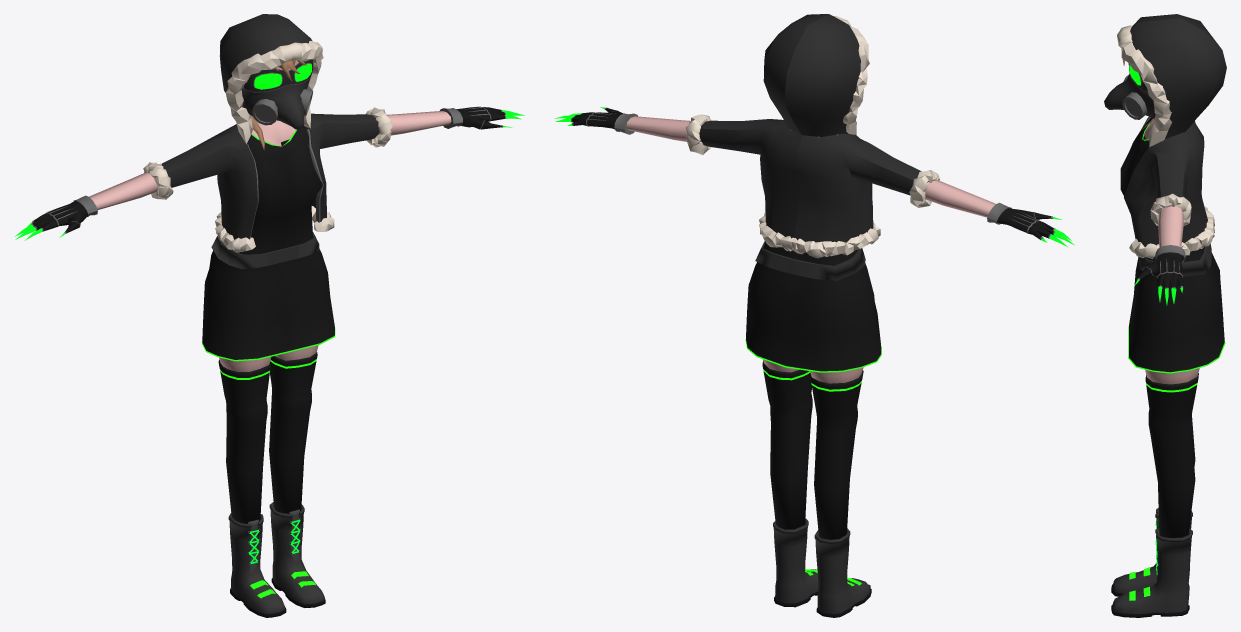
The model's file is Mires-Character2.fbx.
3 views of the same model, side by side, from view 1: azimuth 30°, elevation 25°; view 2: azimuth 150°, elevation 25°; view 3: azimuth 270°, elevation 25° (orthographic). The views are drawn at different scales.
Visible parts, largest first — view 1: Dress.001, Jacket.001, Stockings.001, Boots.001, Body.001, Gloves.001, Mask.002, Belt.001, Gas.001, Lens.001; view 2: Jacket.001, Dress.001, Stockings.001, Boots.001, Body.001, Gloves.001, Belt.001; view 3: Jacket.001, Dress.001, Stockings.001, Boots.001, Body.001, Gloves.001, Mask.002, Belt.001, Gas.001.
Boxes of the visible parts, <box> form: Dress.001: <box>202,126,335,361</box>; Jacket.001: <box>143,14,392,252</box>; Stockings.001: <box>218,352,317,523</box>; Boots.001: <box>228,502,325,617</box>; Body.001: <box>89,111,451,371</box>; Gloves.001: <box>15,106,524,240</box>; Mask.002: <box>242,72,312,129</box>; Belt.001: <box>211,232,319,268</box>; Gas.001: <box>251,89,313,125</box>; Lens.001: <box>253,62,312,89</box>; Jacket.001: <box>685,14,939,258</box>; Dress.001: <box>745,134,881,372</box>; Stockings.001: <box>762,361,863,539</box>; Boots.001: <box>773,518,871,617</box>; Body.001: <box>626,116,995,383</box>; Gloves.001: <box>554,107,1074,247</box>; Belt.001: <box>755,241,865,280</box>; Jacket.001: <box>1117,14,1226,259</box>; Dress.001: <box>1120,117,1225,373</box>; Stockings.001: <box>1145,373,1198,537</box>; Boots.001: <box>1111,508,1192,617</box>; Body.001: <box>1143,119,1199,384</box>; Gloves.001: <box>1134,245,1185,305</box>; Mask.002: <box>1104,74,1155,118</box>; Belt.001: <box>1138,244,1211,276</box>; Gas.001: <box>1122,75,1147,119</box>.
Bounding box in the file's own units: 30.4 × 149 × 159.
